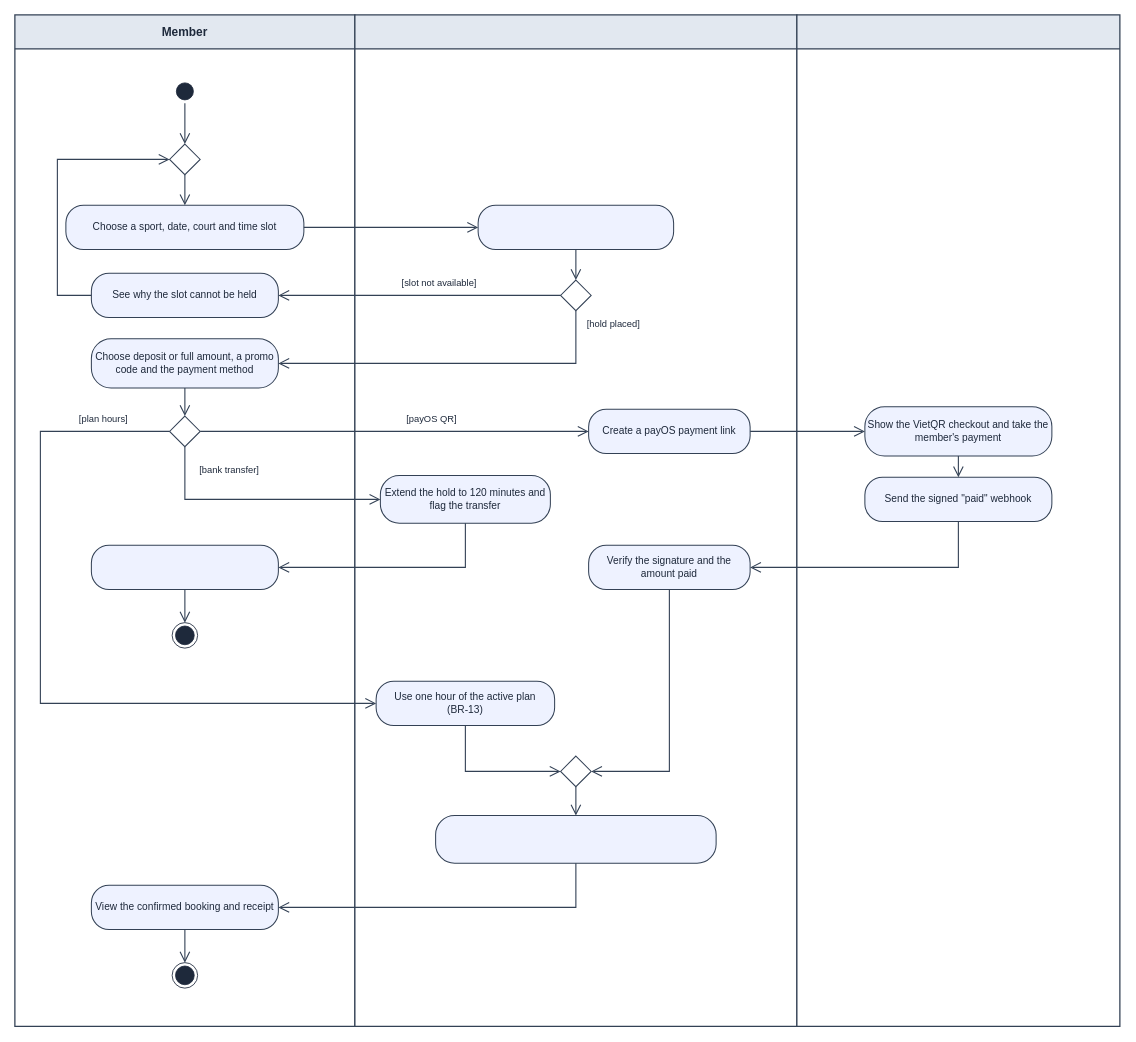
Image size: 1136x1042. Some labels were removed from this diagram. The shapes that lost their labels are listed below. From the top down, each one's box as (x1, y1, x2, y2) in pixels, then its label:
(477, 204, 674, 250): Place a 5-minute hold (BR-06, BR-05, BR-09)
(354, 14, 797, 1027): Arena3 System
(796, 14, 1120, 1027): payOS
(90, 544, 278, 590): Transfer the amount from a banking app
(435, 815, 716, 863): Confirm the booking, redeem the promo, issue the invoice and notify the member
